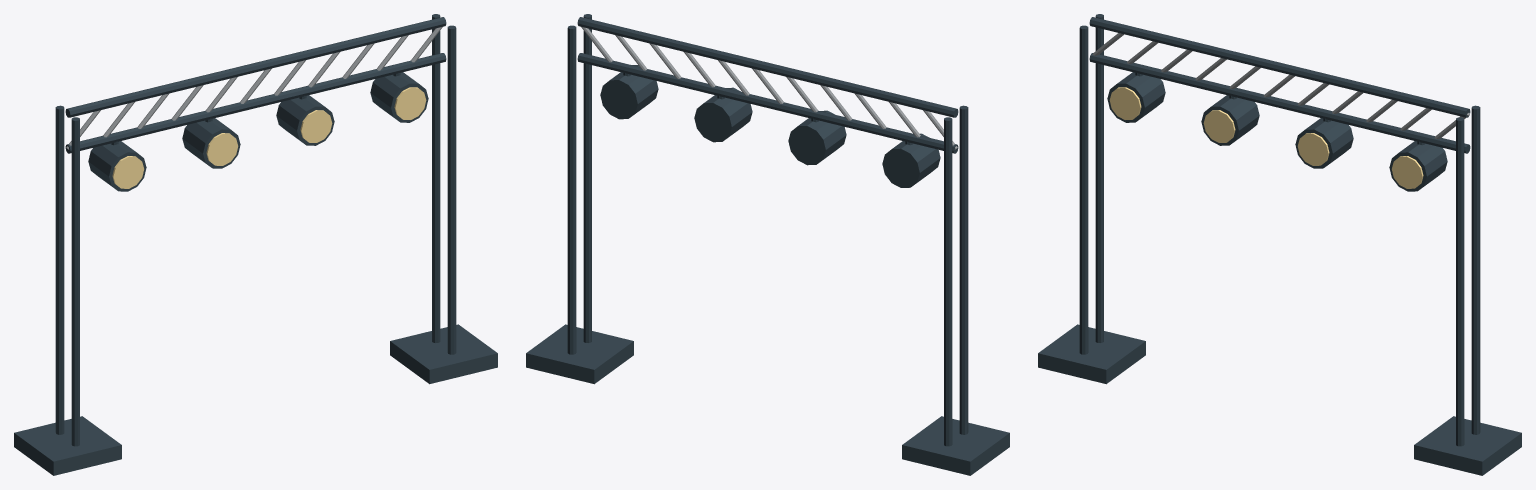
The model's file is stage_lights.glb.
3 renders of one model, left to right at view 1: azimuth 30°, elevation 25°; view 2: azimuth 150°, elevation 25°; view 3: azimuth 330°, elevation 25°, orthographic.
Visible parts, largest first — view 1: truss_rail.001, foot, foot.001, truss_rail, upright.002, upright.001, upright, upright.003, lamp_housing, lamp_housing.002, lamp_housing.003, lamp_housing.001 (+4 smaller); view 2: truss_rail.001, foot, foot.001, truss_rail, upright.003, upright, upright.001, upright.002, lamp_housing.002, lamp_housing.001, lamp_housing, lamp_housing.003; view 3: truss_rail.001, foot.001, foot, truss_rail, upright, upright.003, upright.002, upright.001, lamp_housing.003, lamp_housing.001, lamp_housing, lamp_housing.002 (+4 smaller).
Part boxes in pixels (bbox=[...]): truss_rail.001: bbox=[65, 17, 446, 117]; foot: bbox=[14, 416, 121, 475]; foot.001: bbox=[390, 324, 497, 384]; truss_rail: bbox=[65, 53, 446, 153]; upright.002: bbox=[447, 25, 456, 354]; upright.001: bbox=[55, 105, 64, 434]; upright: bbox=[71, 117, 79, 446]; upright.003: bbox=[432, 14, 440, 342]; lamp_housing: bbox=[88, 141, 146, 191]; lamp_housing.002: bbox=[276, 95, 334, 145]; lamp_housing.003: bbox=[370, 72, 428, 122]; lamp_housing.001: bbox=[182, 118, 240, 168]; truss_rail.001: bbox=[577, 17, 958, 117]; foot: bbox=[902, 416, 1009, 475]; foot.001: bbox=[526, 324, 633, 384]; truss_rail: bbox=[577, 53, 958, 153]; upright.003: bbox=[567, 25, 576, 354]; upright: bbox=[959, 105, 968, 434]; upright.001: bbox=[944, 117, 952, 446]; upright.002: bbox=[583, 14, 591, 342]; lamp_housing.002: bbox=[694, 87, 752, 142]; lamp_housing.001: bbox=[788, 110, 846, 165]; lamp_housing: bbox=[882, 133, 940, 187]; lamp_housing.003: bbox=[600, 65, 658, 119]; truss_rail.001: bbox=[1089, 17, 1470, 117]; foot.001: bbox=[1414, 416, 1521, 475]; foot: bbox=[1038, 324, 1145, 384]; truss_rail: bbox=[1089, 53, 1470, 153]; upright: bbox=[1079, 25, 1088, 354]; upright.003: bbox=[1471, 105, 1480, 434]; upright.002: bbox=[1456, 117, 1464, 446]; upright.001: bbox=[1095, 14, 1103, 342]; lamp_housing.003: bbox=[1389, 141, 1447, 191]; lamp_housing.001: bbox=[1201, 95, 1259, 145]; lamp_housing: bbox=[1107, 72, 1165, 122]; lamp_housing.002: bbox=[1295, 118, 1353, 168].
Bounding box in the file's own units: 5.2 × 3.85 × 0.8.
